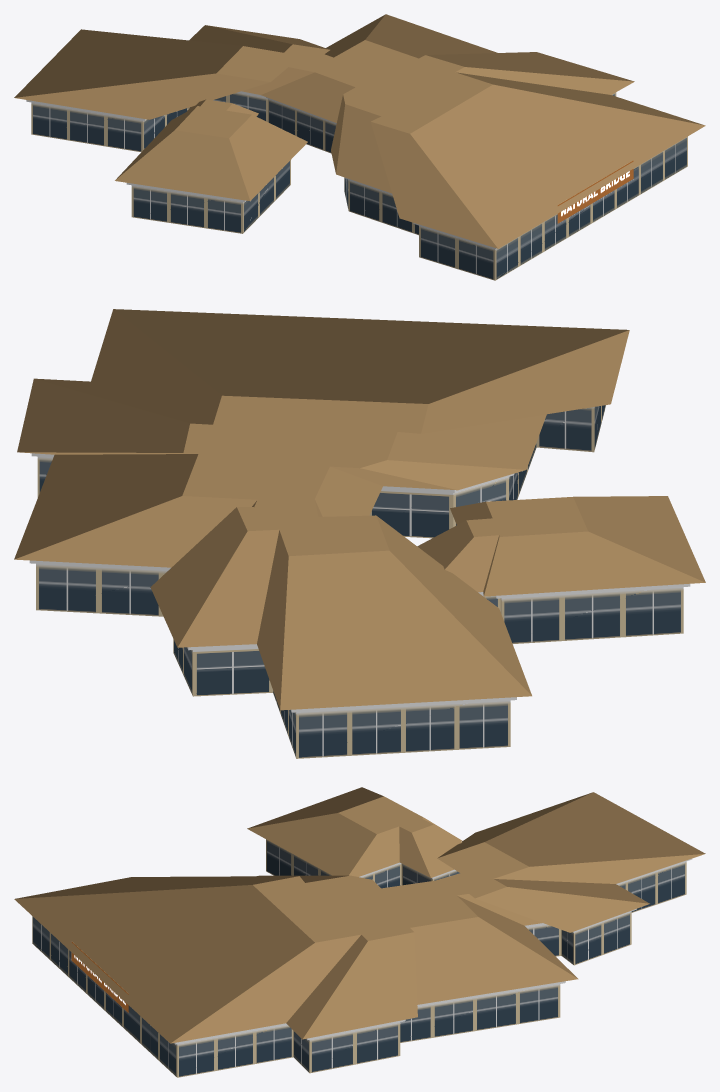
File: naturalbridge.glb
The picture shows the model from 3 angles, top to bottom: view 1: azimuth 30°, elevation 25°; view 2: azimuth 150°, elevation 25°; view 3: azimuth 270°, elevation 25°; orthographic projection. The views are drawn at different scales.
Visible parts, largest first — view 1: naturalbridge_lod0; view 2: naturalbridge_lod0; view 3: naturalbridge_lod0.
Boxes of the visible parts, bbox=[...] form: naturalbridge_lod0: bbox=[14, 14, 705, 280]; naturalbridge_lod0: bbox=[14, 309, 705, 758]; naturalbridge_lod0: bbox=[14, 787, 705, 1077].
Size of what is drawn, in the model's own units: 52.78 by 6.6 by 60.17.
Materials: 4 (2 with a texture image).
